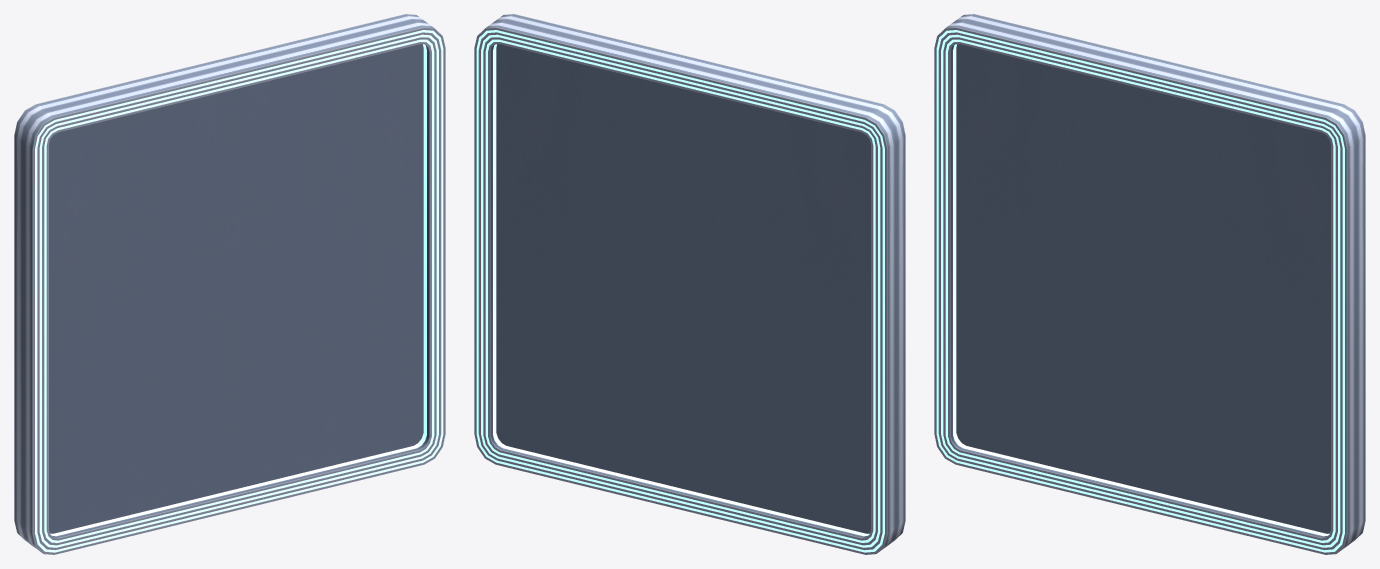
Rendered from obj_governance02.gltf.
3 renders of one model, left to right at view 1: azimuth 30°, elevation 25°; view 2: azimuth 150°, elevation 25°; view 3: azimuth 330°, elevation 25°, orthographic.
Visible parts, largest first — view 1: obj_governance02; view 2: obj_governance02; view 3: obj_governance02.
Boxes of the visible parts, x1,y1,x2,y2 form: obj_governance02: [14, 14, 445, 554]; obj_governance02: [474, 14, 905, 554]; obj_governance02: [934, 14, 1365, 554].
Size of what is drawn, in the model's own units: 2.14 by 2.17 by 0.1666.
Materials: 2 (1 with a texture image).
